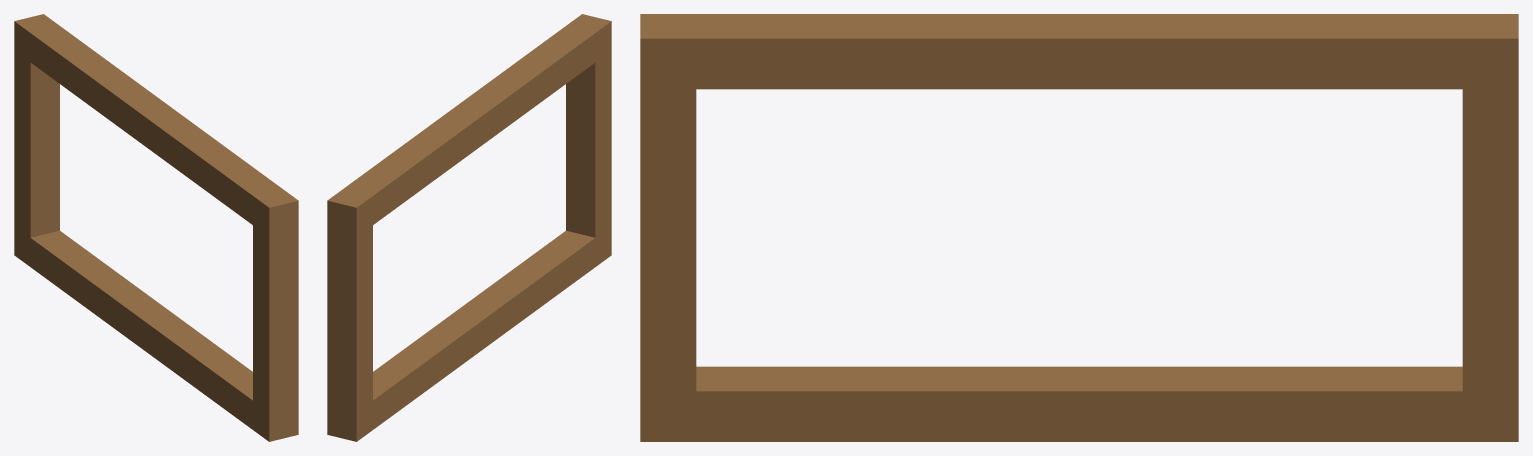
The model's file is modularBuildings_090.obj.
3 renders of one model, left to right at view 1: azimuth 30°, elevation 25°; view 2: azimuth 150°, elevation 25°; view 3: azimuth 270°, elevation 25°, orthographic. The views are drawn at different scales.
Parts seen in each view (by area): view 1: Mesh1 Group1 Model; view 2: Mesh1 Group1 Model; view 3: Mesh1 Group1 Model.
Boxes of the visible parts, x1,y1,x2,y2 form: Mesh1 Group1 Model: (14,14,298,441); Mesh1 Group1 Model: (327,14,611,441); Mesh1 Group1 Model: (640,14,1518,441).
Bounding box in the file's own units: 0.05 × 0.38 × 0.75.
